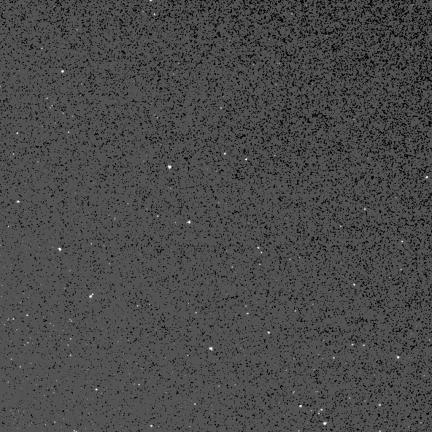blob: (168, 165, 172, 170)
